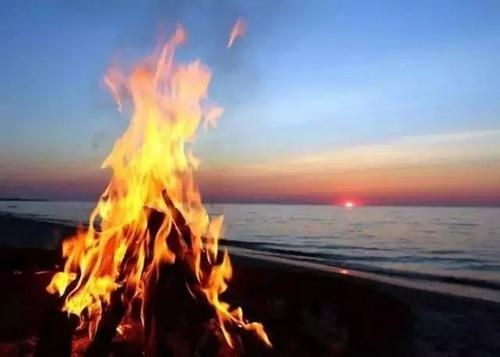fire: (52, 29, 235, 330), (225, 15, 248, 49)
